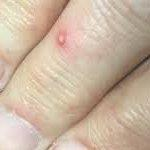Ants: (55, 30, 68, 49)
